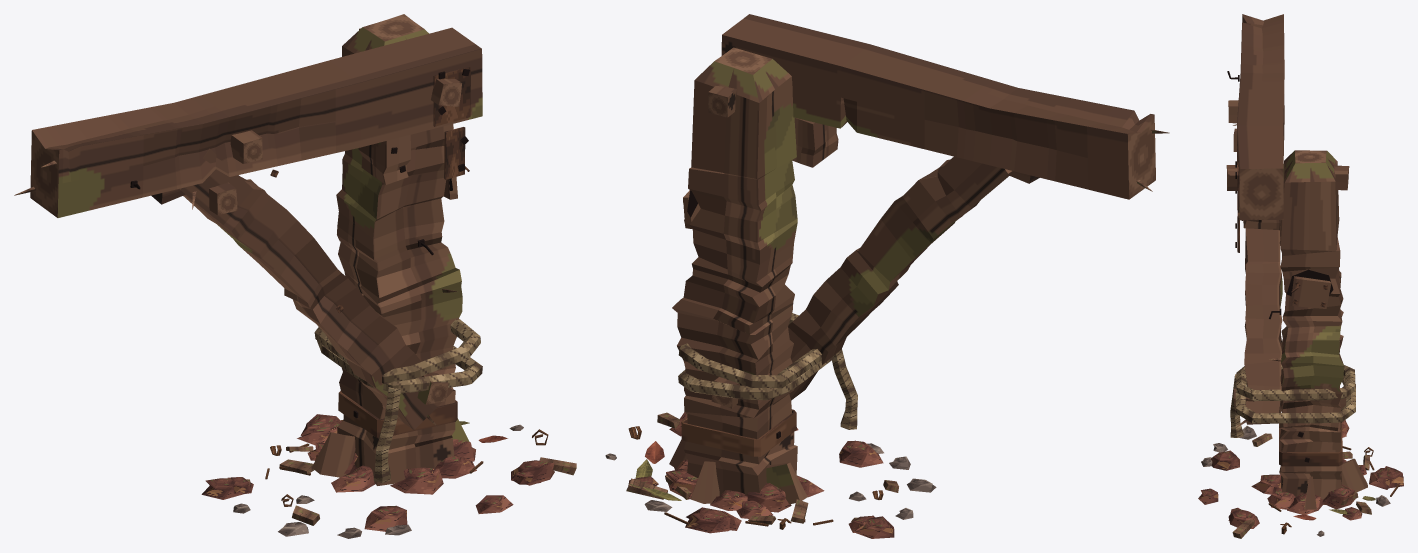
File: SM_AN16_DeckBracket.fbx
The picture shows the model from 3 angles, left to right: view 1: azimuth 30°, elevation 25°; view 2: azimuth 150°, elevation 25°; view 3: azimuth 270°, elevation 25°; orthographic projection. The views are drawn at different scales.
Visible parts, largest first — view 1: AN16a_Wood, AN16a_Props; view 2: AN16a_Wood, AN16a_Props; view 3: AN16a_Wood, AN16a_Props.
Part boxes in pixels (x1,y1,x2,y2): AN16a_Wood: (32,27,482,485); AN16a_Props: (14,14,576,538); AN16a_Wood: (669,14,1154,504); AN16a_Props: (605,47,1169,538); AN16a_Wood: (1226,14,1367,509); AN16a_Props: (1198,71,1403,538).
Size of the model in its own units: 1.91 by 1.52 by 0.8412.
